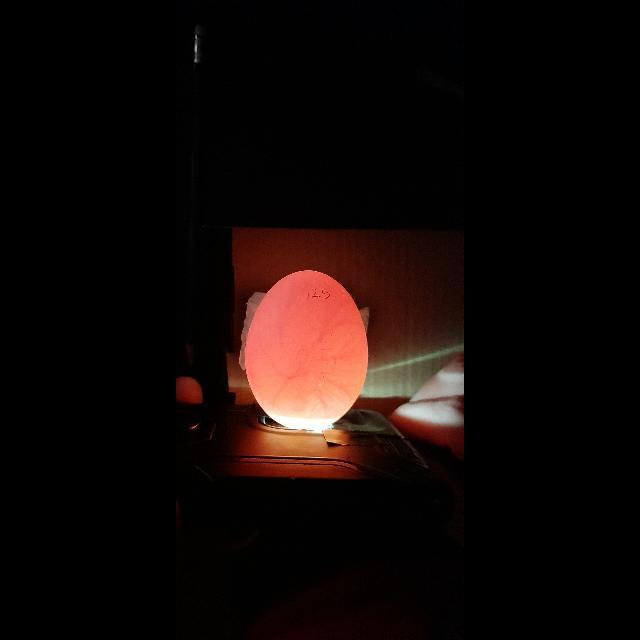Fertile: (242, 266, 372, 438)
